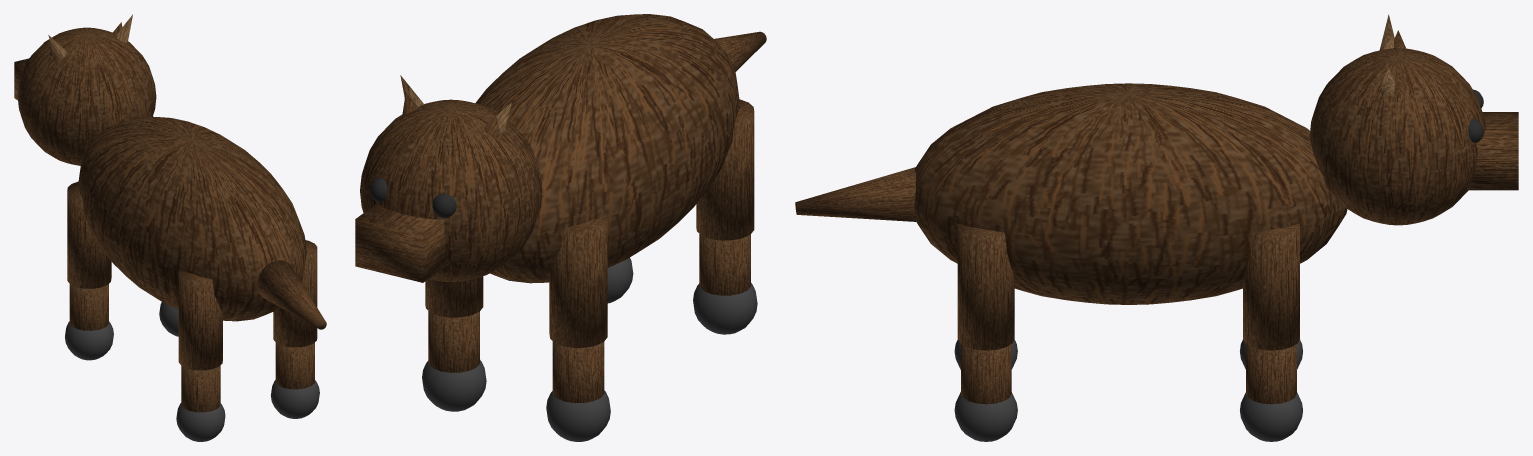
Rendered from crag-ram.glb.
3 renders of one model, left to right at view 1: azimuth 30°, elevation 25°; view 2: azimuth 150°, elevation 25°; view 3: azimuth 270°, elevation 25°, orthographic. The views are drawn at different scales.
Parts seen in each view (by area): view 1: Body, Head, LegUpper, LegUpper.001, Tail, LegUpper.002, LegLower, LegLower.002, LegLower.001, Paw.001, Paw, Paw.002 (+1 smaller); view 2: Body, Head, LegUpper.001, Snout, LegUpper, LegLower.001, LegLower.003, LegLower, Paw.003, Paw, Paw.001, LegUpper.003 (+3 smaller); view 3: Body, Head, LegUpper.002, LegUpper.003, Tail, Snout, LegLower.002, LegLower.003, Paw.002, Paw.003.
Boxes of the visible parts, x1,y1,x2,y2 form: Body: [78, 116, 306, 321]; Head: [17, 27, 156, 165]; LegUpper: [178, 269, 222, 370]; LegUpper.001: [67, 181, 111, 288]; Tail: [258, 260, 326, 329]; LegUpper.002: [273, 240, 317, 347]; LegLower: [181, 365, 220, 412]; LegLower.002: [275, 342, 314, 389]; LegLower.001: [69, 284, 108, 330]; Paw.001: [65, 321, 113, 360]; Paw: [176, 403, 225, 441]; Paw.002: [270, 380, 319, 418]; Body: [475, 14, 740, 283]; Head: [360, 99, 542, 281]; LegUpper.001: [549, 215, 607, 347]; Snout: [355, 203, 449, 282]; LegUpper: [696, 99, 754, 240]; LegLower.001: [552, 341, 604, 403]; LegLower.003: [428, 311, 479, 372]; LegLower: [699, 234, 750, 295]; Paw.003: [422, 360, 486, 411]; Paw: [693, 283, 757, 334]; Paw.001: [546, 390, 610, 441]; LegUpper.003: [425, 276, 483, 317]; Body: [914, 83, 1347, 304]; Head: [1309, 48, 1485, 225]; LegUpper.002: [957, 223, 1014, 350]; LegUpper.003: [1243, 223, 1299, 350]; Tail: [795, 167, 915, 221]; Snout: [1466, 112, 1518, 190]; LegLower.002: [961, 344, 1011, 404]; LegLower.003: [1246, 344, 1296, 404]; Paw.002: [954, 392, 1017, 441]; Paw.003: [1240, 392, 1302, 441].
Size of the model in its own units: 0.5327 by 0.9781 by 1.74.
4 materials, 2 textured.
